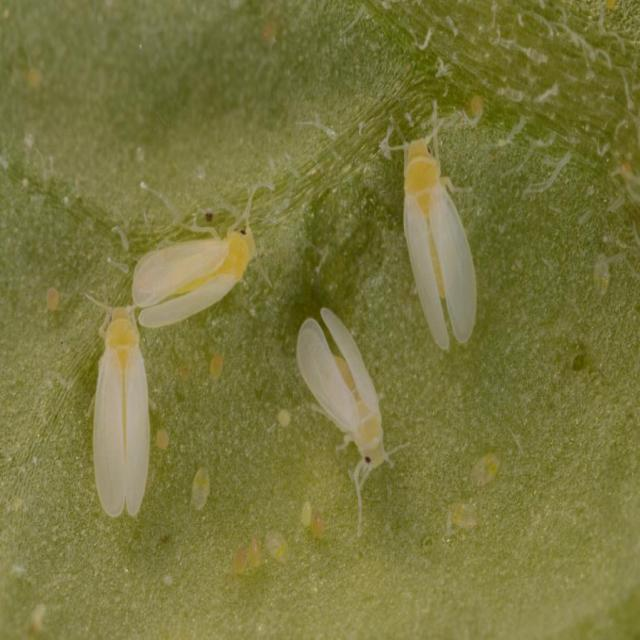whiteflies: (376, 76, 491, 359), (288, 302, 416, 532), (124, 161, 282, 335), (77, 266, 174, 531)
